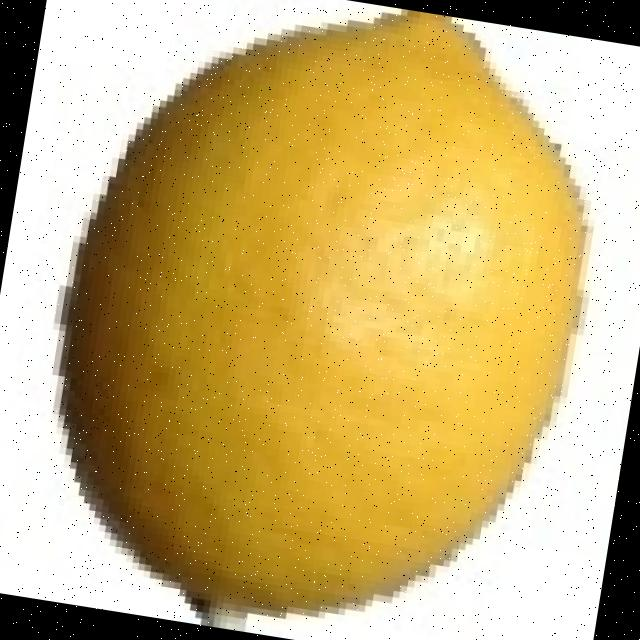lemon: (63, 10, 583, 613)
